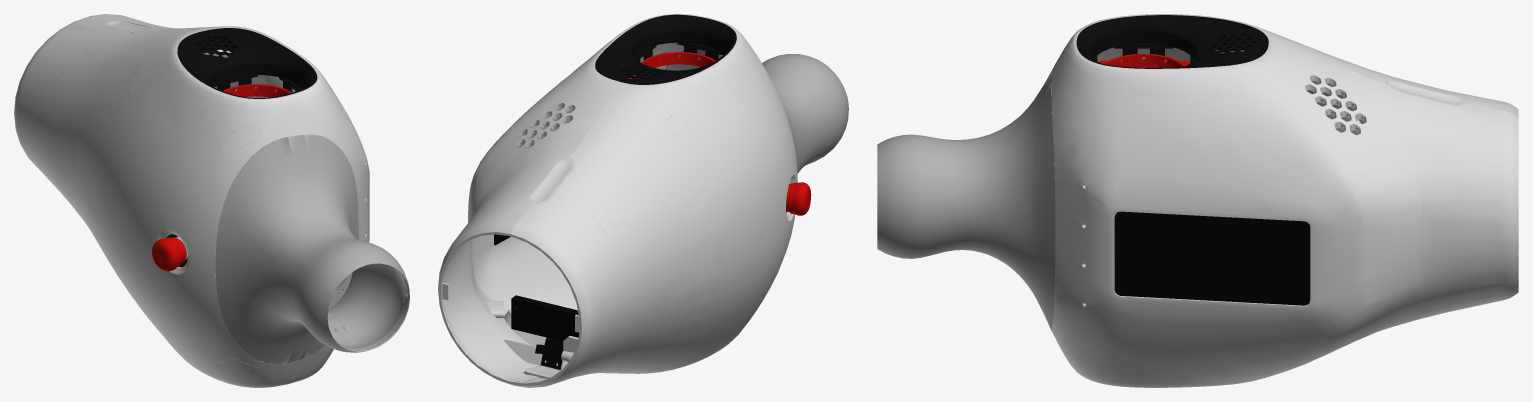
File: torso_base_link.obj
3 renders of one model, left to right at view 1: azimuth 30°, elevation 25°; view 2: azimuth 150°, elevation 25°; view 3: azimuth 270°, elevation 25°, orthographic. The views are drawn at different scales.
Parts seen in each view (by area): view 1: torso_base_link.002_Material, torso_base_link.012_m1, torso_base_link.001_Material, torso_base_link.004_hand, torso_base_link.010_push, torso_base_link_Material; view 2: torso_base_link.002_Material, torso_base_link.001_Material, torso_base_link.012_m1, torso_base_link.004_hand, off, torso_base_link.010_push, torso_base_link_Material, torso_base_link.008_Material; view 3: torso_base_link.001_Material, torso_base_link.012_m1, torso_base_link.005_face, torso_base_link.004_hand, torso_base_link.002_Material, torso_base_link.010_push, torso_base_link.008_Material.
Part boxes in pixels (x1,y1,x2,y2): torso_base_link.002_Material: (14,16,297,387); torso_base_link.012_m1: (215,134,409,363); torso_base_link.001_Material: (91,14,369,383); torso_base_link.004_hand: (177,28,317,98); torso_base_link.010_push: (152,84,291,271); torso_base_link_Material: (63,52,261,374); torso_base_link.002_Material: (506,18,797,387); torso_base_link.001_Material: (438,14,710,384); torso_base_link.012_m1: (665,48,848,213); torso_base_link.004_hand: (595,14,736,84); off: (511,184,791,369); torso_base_link.010_push: (628,52,811,215); torso_base_link_Material: (592,57,768,370); torso_base_link.008_Material: (528,158,575,203); torso_base_link.001_Material: (1051,42,1518,387); torso_base_link.012_m1: (877,67,1055,330); torso_base_link.005_face: (1114,211,1310,305); torso_base_link.004_hand: (1076,15,1268,68); torso_base_link.002_Material: (1052,14,1518,135); torso_base_link.010_push: (1098,53,1190,67); torso_base_link.008_Material: (1386,80,1465,106).
Bounding box in the file's own units: 0.2395 × 0.2833 × 0.5175.
